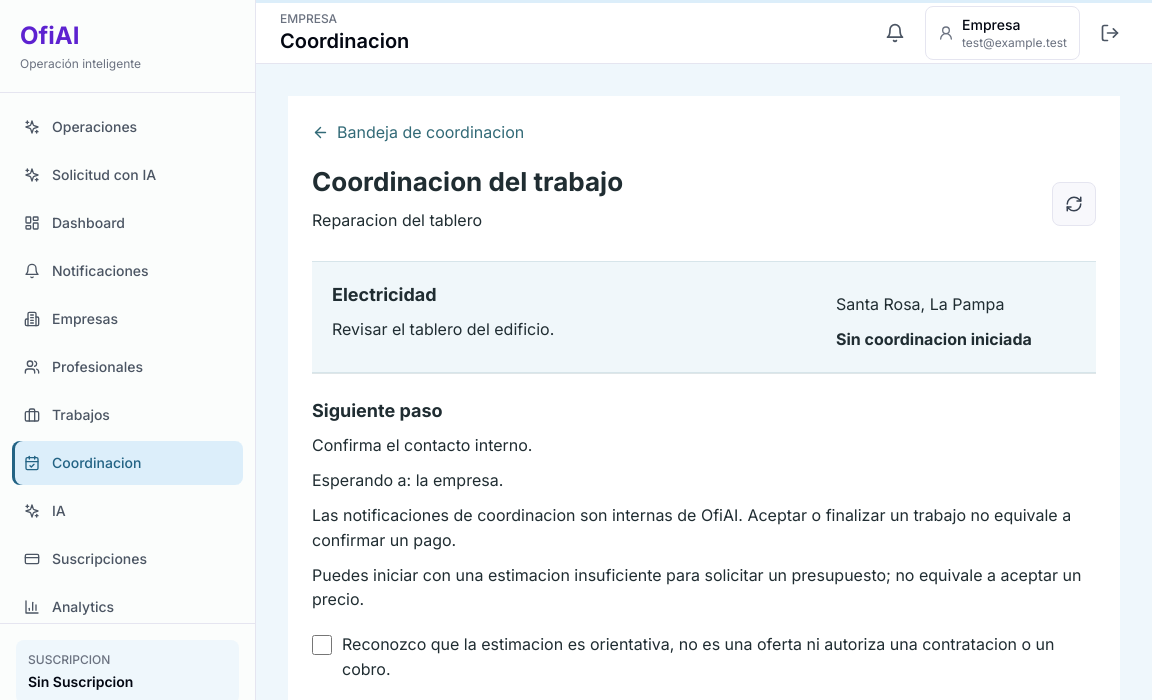
exige consentimiento para iniciar, admite insuficiencia y conserva UUID tras fallo
The image size is (1152, 700).
Click the checkbox labelled "Reconozco".
click(322, 645)  # box [312, 635, 332, 655]
(page scrolled)
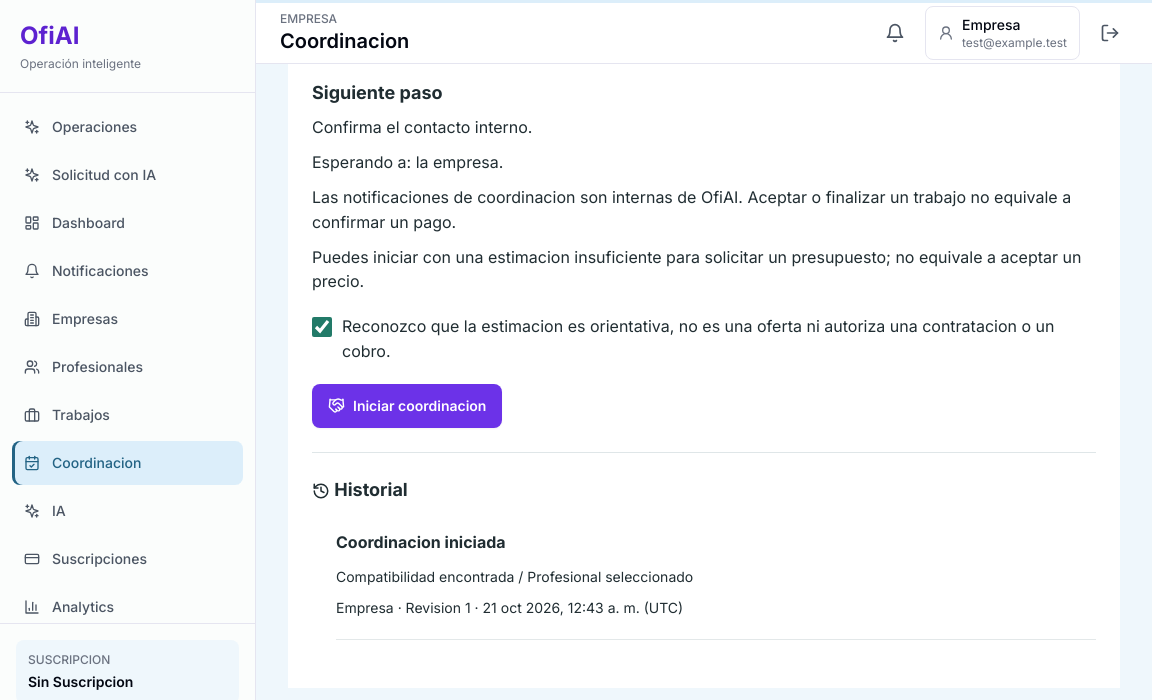
Click the button "Iniciar coordinacion".
click(407, 406)  # box [312, 384, 502, 428]
(page scrolled)
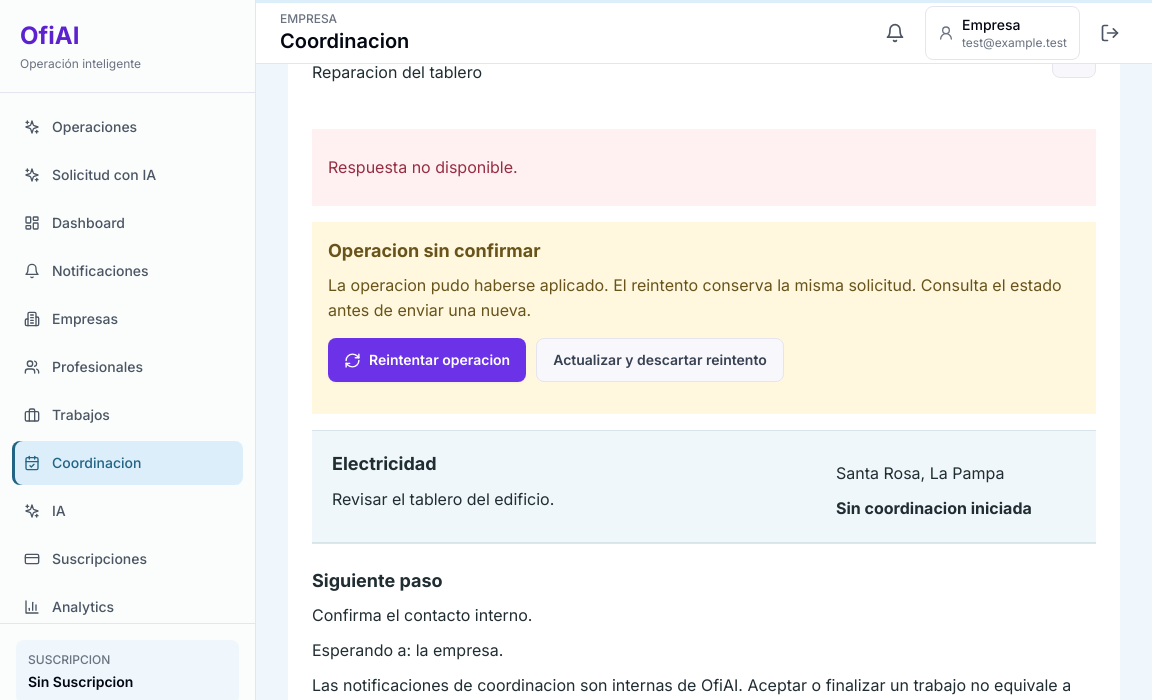
Result: the heading "Operacion sin confirmar" is shown at [328, 240, 541, 261]
Click the button "Reintentar operacion".
click(427, 360)  # box [328, 338, 526, 382]
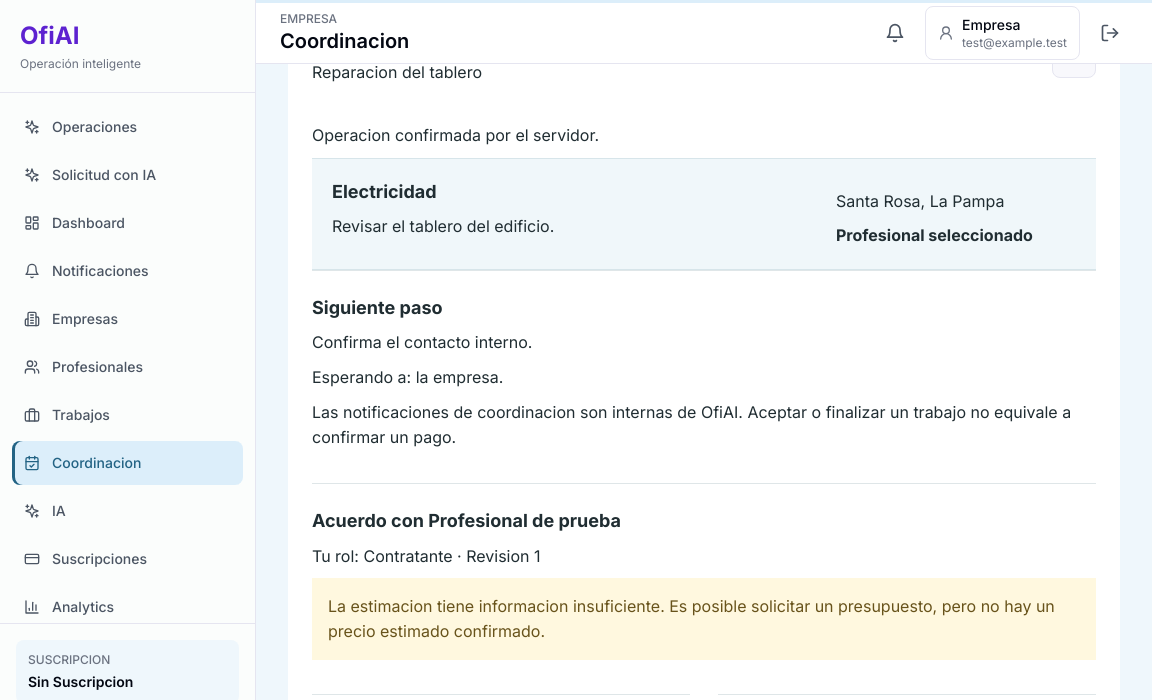
Result: the text "Operacion confirmada por el servidor." is shown at [312, 125, 599, 145]
